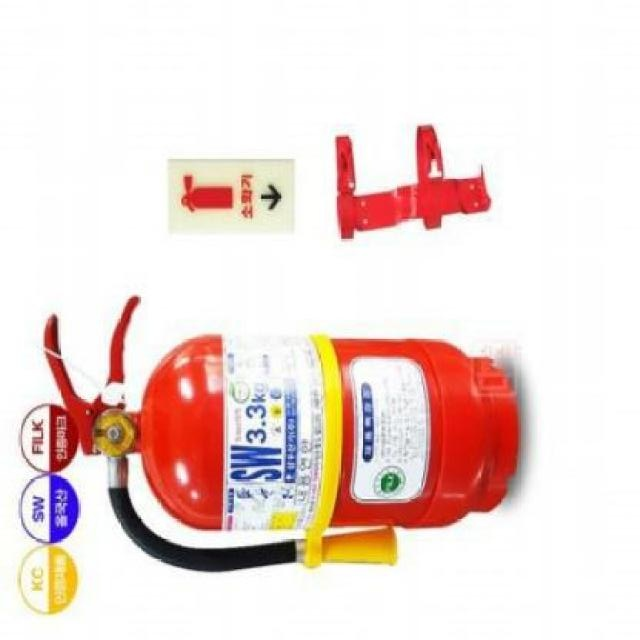fire extinguisher: (42, 295, 518, 574)
